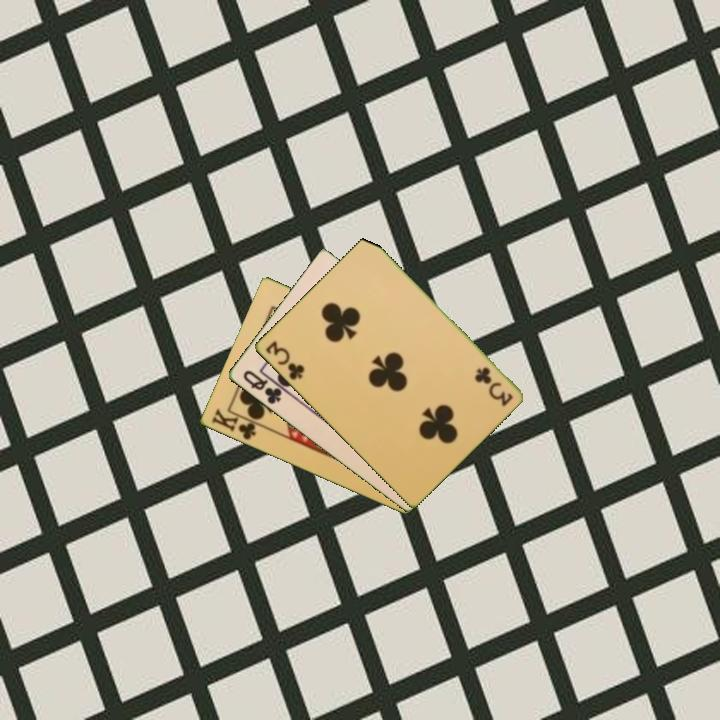3c: (262, 337, 307, 383), (471, 363, 515, 409)
Kc: (207, 405, 264, 443)
Qc: (239, 366, 284, 407)
